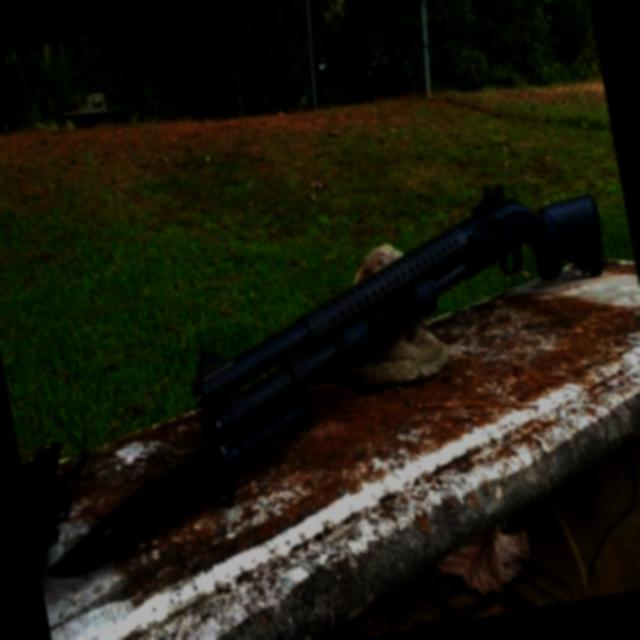shotgun: (11, 121, 640, 613)
